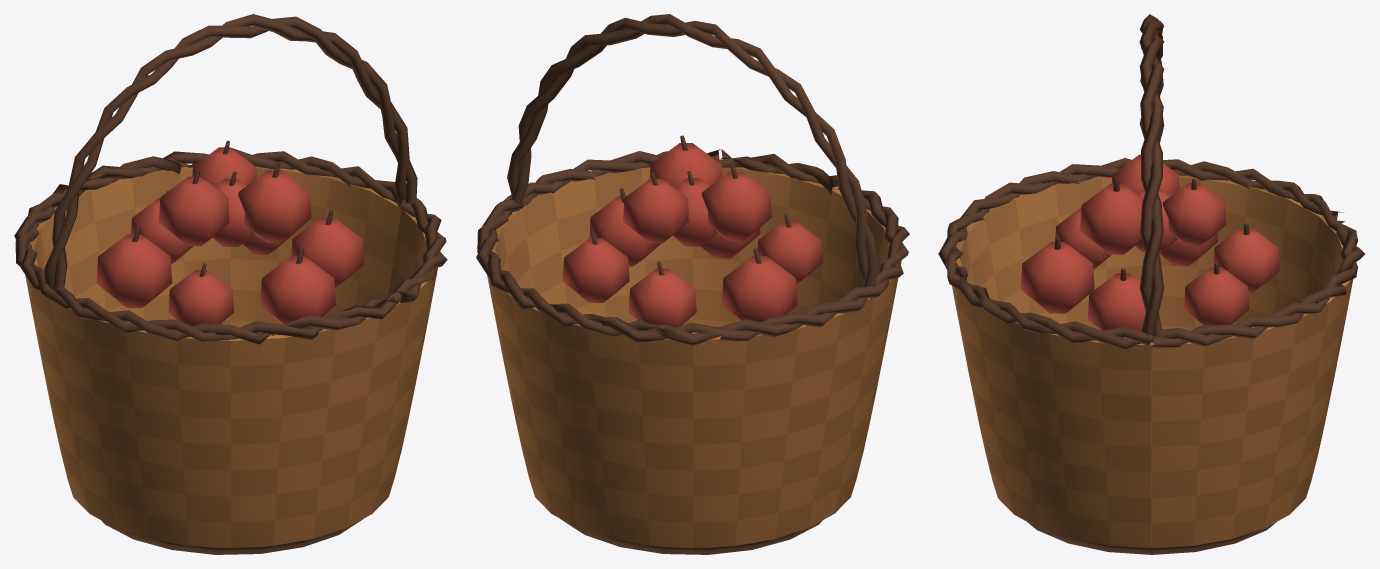
Rendered from prop_harvest_basket_a.glb.
The picture shows the model from 3 angles, left to right: view 1: azimuth 30°, elevation 25°; view 2: azimuth 150°, elevation 25°; view 3: azimuth 270°, elevation 25°; orthographic projection. The views are drawn at different scales.
Visible parts, largest first — view 1: prop_harvest_basket_a_mesh; view 2: prop_harvest_basket_a_mesh; view 3: prop_harvest_basket_a_mesh.
Boxes of the visible parts, x1=… form: prop_harvest_basket_a_mesh: x1=14, y1=14, x2=447, y2=554; prop_harvest_basket_a_mesh: x1=476, y1=14, x2=909, y2=554; prop_harvest_basket_a_mesh: x1=938, y1=14, x2=1364, y2=554.
Bounding box in the file's own units: 0.7513 × 0.8987 × 0.752.
